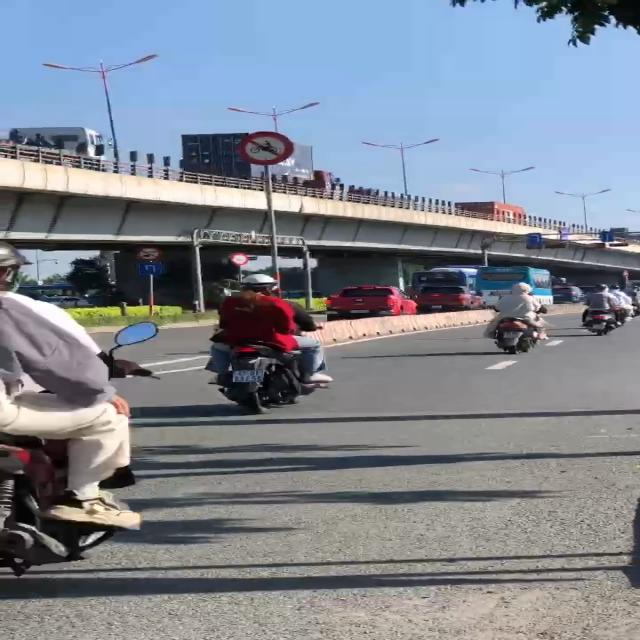Bien bao cam xe may: (235, 129, 296, 166)
